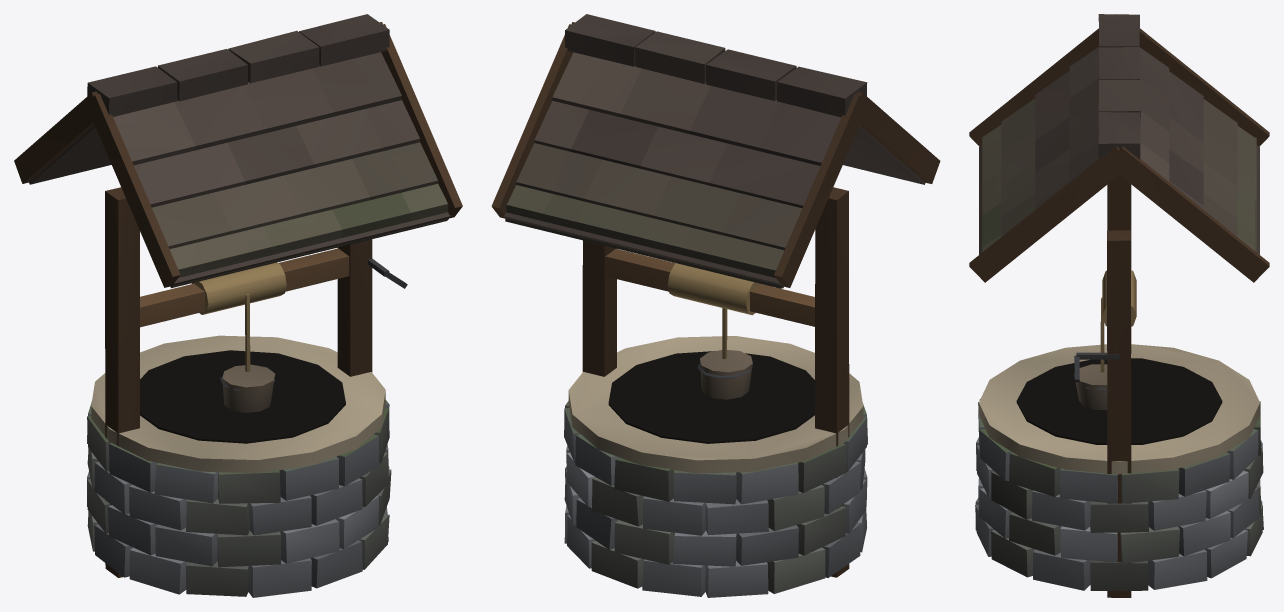
File: ph_prop_v_well.glb
3 views of the same model, side by side, from view 1: azimuth 30°, elevation 25°; view 2: azimuth 150°, elevation 25°; view 3: azimuth 270°, elevation 25° (orthographic). The views are drawn at different scales.
Parts seen in each view (by area): view 1: ph_prop_v_well; view 2: ph_prop_v_well; view 3: ph_prop_v_well.
Boxes of the visible parts, <box> form: ph_prop_v_well: <box>14,14,462,597</box>; ph_prop_v_well: <box>491,14,940,597</box>; ph_prop_v_well: <box>969,14,1269,597</box>.
Bounding box in the file's own units: 1.85 × 2.97 × 1.75.
